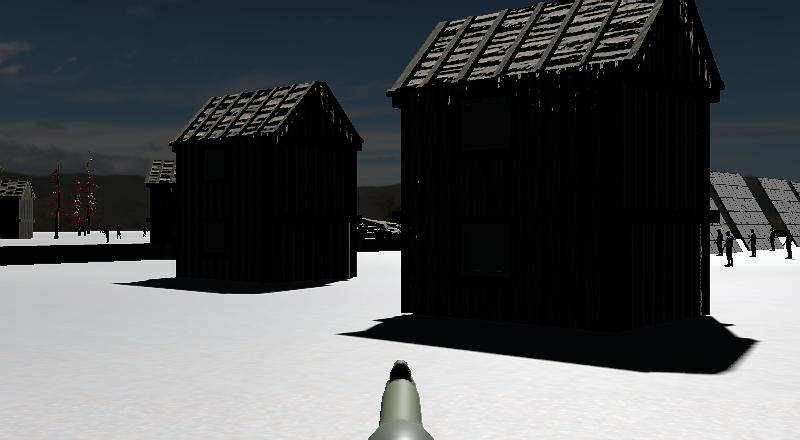House: (369, 0, 759, 391), (132, 69, 385, 315), (0, 165, 44, 260)
